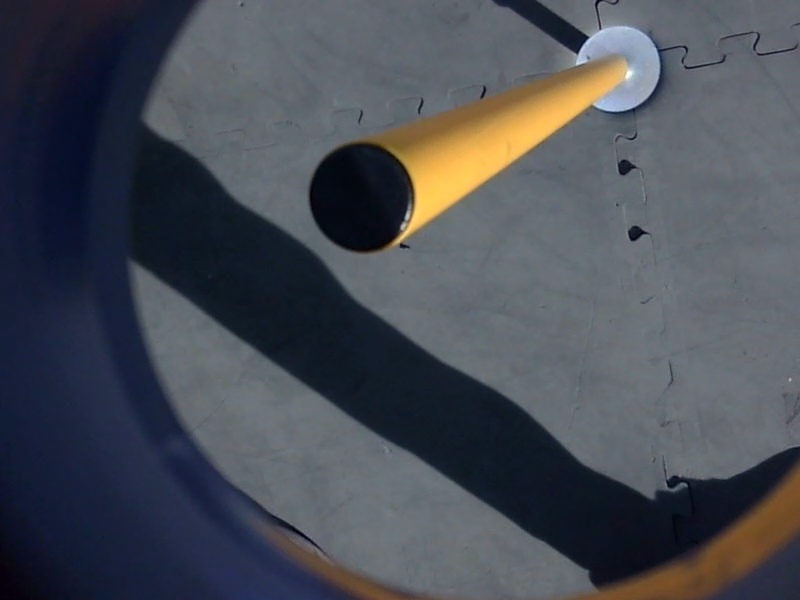tip: (300, 136, 427, 264)
